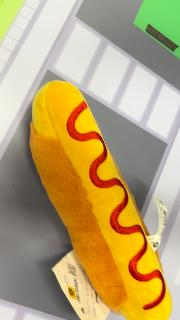hotdog: (29, 80, 173, 318)
